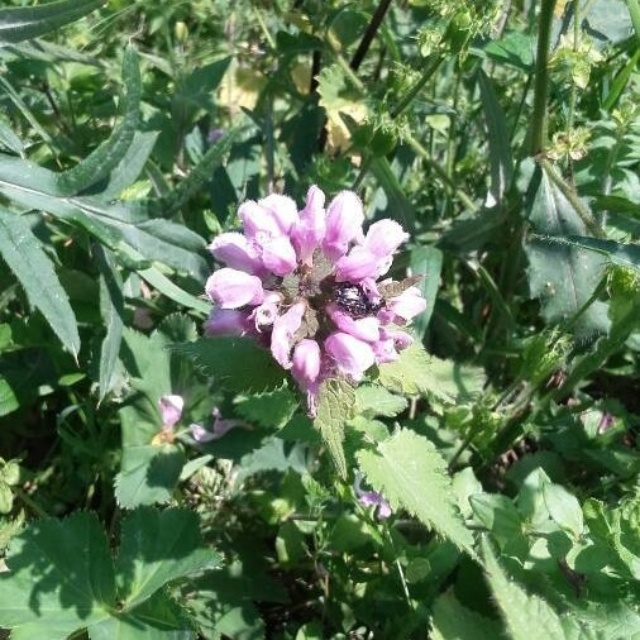obstacle: (51, 128, 390, 441)
